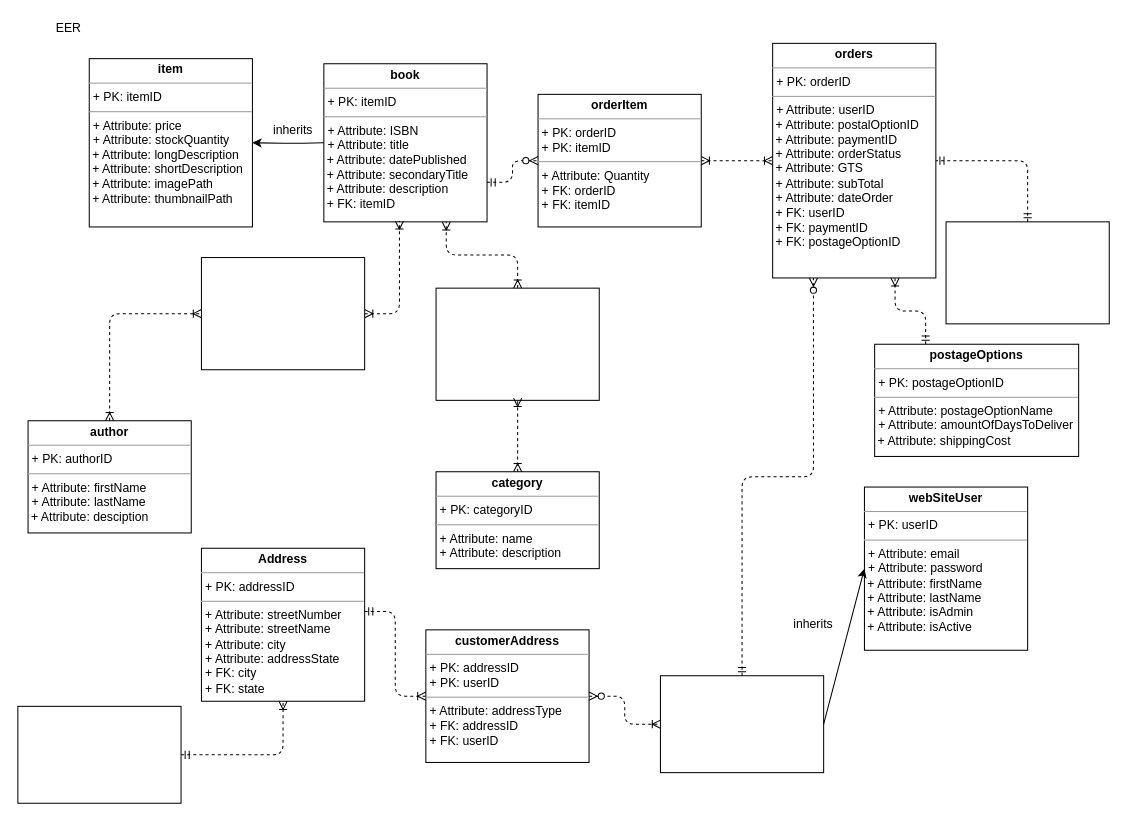
Image size: 1127x821. Some labels were removed from this diagram. Here are the shapes that lost their labels. From the top down, the centre of each, then its label:
point (1027, 272): payment + PK: paymentID + Attribute: datePayed + Attribute: total
point (282, 313): bookAuthor + PK: authorID + PK: itemID + FK: authorID + FK: itemID
point (517, 343): bookCategory + PK: categoryID + PK: itemID + FK: categoryID + FK: itemID
point (741, 724): customer + PK: userID + Attribute: phoneNumber + FK: userID
point (99, 754): postCode + PK: city + PK: addressState + Attribute: postCode
